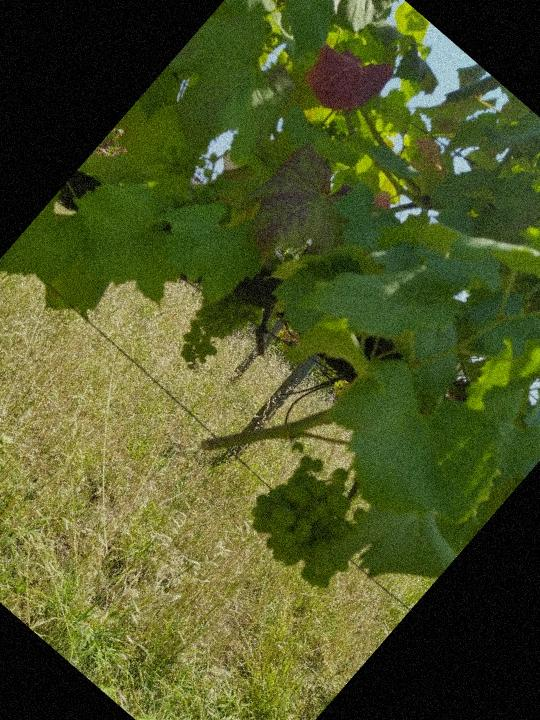grape: (230, 436, 397, 603), (157, 275, 268, 390)
